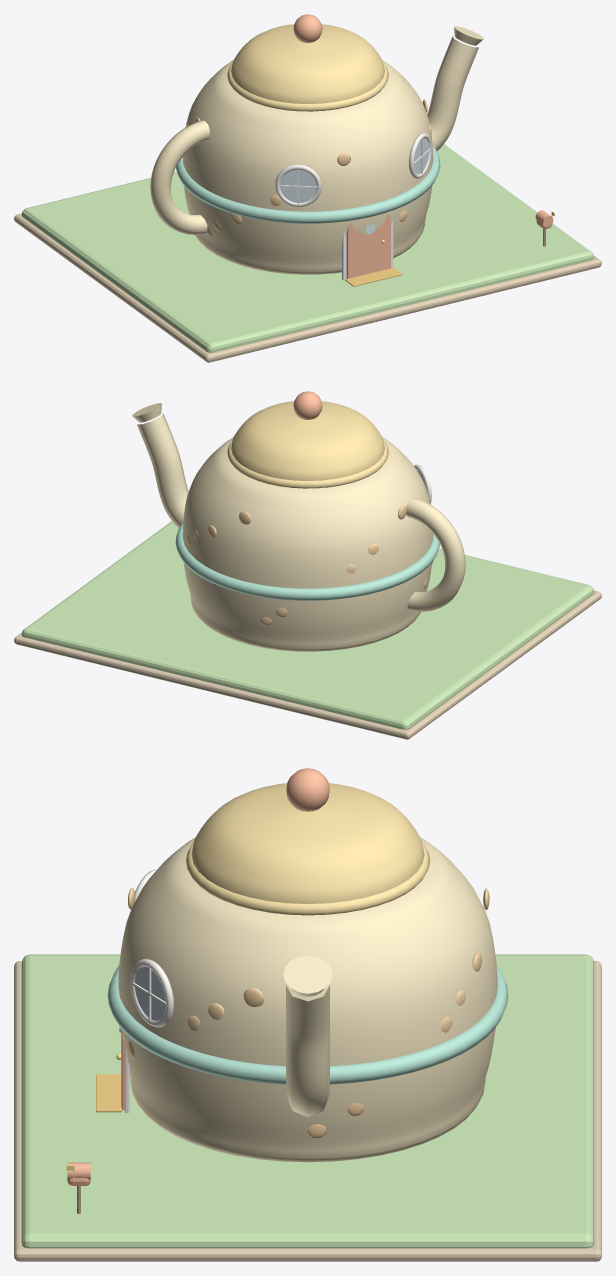
The model's file is building_kitchen_L06.glb.
The picture shows the model from 3 angles, top to bottom: view 1: azimuth 30°, elevation 25°; view 2: azimuth 150°, elevation 25°; view 3: azimuth 270°, elevation 25°; orthographic projection. The views are drawn at different scales.
Parts seen in each view (by area): view 1: Body, kitchen_L6; view 2: Body, kitchen_L6; view 3: Body, kitchen_L6.
Part boxes in pixels (bbox=[...]): Body: bbox=[150, 14, 483, 286]; kitchen_L6: bbox=[14, 144, 601, 362]; Body: bbox=[132, 391, 465, 651]; kitchen_L6: bbox=[14, 521, 601, 739]; Body: bbox=[96, 768, 508, 1162]; kitchen_L6: bbox=[14, 954, 601, 1261].
Bounding box in the file's own units: 26.61 × 14.72 × 22.6.
